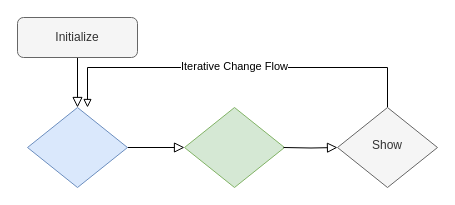
Image size: 455x205. Some labels were removed from this diagram. Each missing label, with the centre of its shape:
"Apply" goes at (234,147).
"Plan" goes at (77,147).
